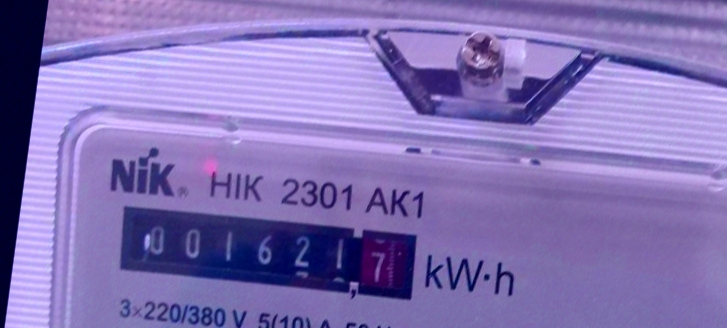0: (180, 222, 206, 261), (145, 219, 170, 255)
1: (331, 232, 350, 270), (220, 225, 238, 262)
2: (291, 230, 316, 269)
6: (254, 229, 277, 266)
7: (364, 245, 389, 284)
screen: (110, 191, 426, 312)
